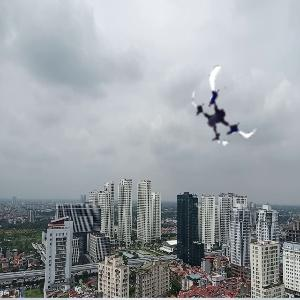drone: (185, 76, 263, 154)
